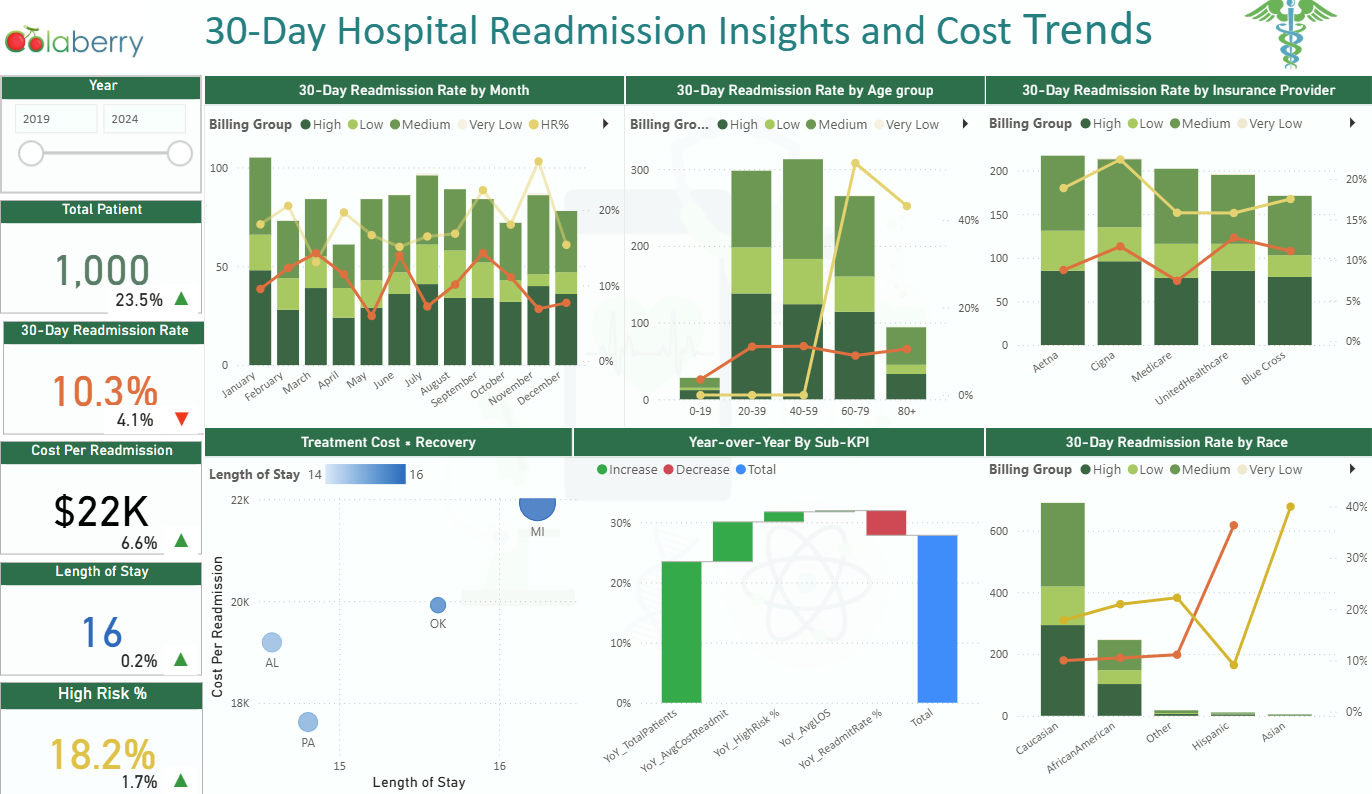

What the dashboard file says about the page in this screenshot:
{"tool":"powerbi","page":{"name":"Original Readmission Insights & Cost Trends","canvas":[1366,800],"ordinal":0},"visuals":[{"type":"textbox","box":[147.8,1,1056,81.6],"z":0},{"type":"image","box":[0,1,147.8,96.6],"z":1000},{"type":"image","box":[1203.9,1,161.6,81.8],"z":2000},{"type":"slicer","title":"Year","fields":{"Values":["DateTable.Year"]},"box":[0,82.7,201.5,117.8],"z":3000},{"type":"card","title":"30-Day Readmission Rate","fields":{"Values":["KPI Measures.ReadmitRate %"]},"box":[3,327,201,113.3],"z":4000},{"type":"card","title":"Total Patient","fields":{"Values":["KPI Measures.TotalPatients"]},"box":[0,207.2,201,113],"z":5000},{"type":"card","title":"Cost Per Readmission","fields":{"Values":["KPI Measures.AvgCostPerReadmit_30"]},"box":[0,447.1,201,113],"z":6000},{"type":"card","title":"Length of Stay","fields":{"Values":["KPI Measures.AvgLOS"]},"box":[0,566.9,201,113],"z":7000},{"type":"lineStackedColumnComboChart","fields":{"Category":["DateTable.MonthName"],"Y2":["KPI Measures.HighRisk %","KPI Measures.30-Day Readmission Rate %"],"Y":["KPI Measures.TotalPatients"],"Series":["30PatientHospitalAdmission_Combined.BillingGroup"]},"box":[203,111.3,418.7,322.2],"z":8000},{"type":"lineStackedColumnComboChart","fields":{"Category":["30PatientHospitalAdmission_Combined.AgeRange"],"Y2":["KPI Measures.HighRisk %","KPI Measures.30-Day Readmission Rate %"],"Y":["KPI Measures.TotalPatients"],"Series":["30PatientHospitalAdmission_Combined.BillingGroup"]},"box":[621.7,111.3,357.6,322.2],"z":9000},{"type":"lineStackedColumnComboChart","fields":{"Category":["30PatientHospitalAdmission_Combined.InsuranceProvider"],"Y":["KPI Measures.TotalPatients"],"Y2":["KPI Measures.HighRisk %","KPI Measures.30-Day Readmission Rate %"],"Series":["30PatientHospitalAdmission_Combined.BillingGroup"]},"box":[979.3,110.3,386.2,322.2],"z":10000},{"type":"scatterChart","title":"Impact of Length of Stay on Billing Amount by Medical Condition","fields":{"X":["KPI Measures.AvgLOS"],"Y":["KPI Measures.AvgCostReadmit"],"Category":["30PatientHospitalAdmission_Combined.State"],"Size":["KPI Measures.TotalPatients"]},"box":[203,462.1,385.2,337.9],"z":11000},{"type":"waterfallChart","title":"Impact of Length of Stay on Billing Amount by Medical Condition","fields":{"Category":["SubKPIs.KPI"],"Y":["SubKPIs.Waterfall_SubKPI_Values"]},"box":[588.2,455.2,391.1,344.8],"z":12000},{"type":"lineStackedColumnComboChart","title":"Impact of Length of Stay on Billing Amount by Medical Condition","fields":{"Category":["30PatientHospitalAdmission_Combined.Race"],"Y2":["KPI Measures.30-Day Readmission Rate %","KPI Measures.HighRisk %"],"Y":["KPI Measures.TotalPatients"],"Series":["30PatientHospitalAdmission_Combined.BillingGroup"]},"box":[979.3,455.2,386.2,344.8],"z":13000},{"type":"textbox","box":[202.9,82.9,418.6,30],"z":14000},{"type":"textbox","box":[621.4,82.9,358.6,30],"z":15000},{"type":"textbox","box":[980,82.9,385.7,30],"z":16000},{"type":"textbox","box":[202.9,432.9,367.1,30],"z":17000},{"type":"textbox","box":[570,432.9,410,30],"z":18000},{"type":"textbox","box":[980,432.9,385.7,30],"z":19000},{"type":"card","title":"High Risk %","fields":{"Values":["KPI Measures.HighRisk %"]},"box":[0,686.7,202,113.3],"z":24000},{"type":"card","fields":{"Values":["KPI Measures.YoY_AvgCostReadmit"]},"box":[107.5,533.8,62,29.6],"z":27000},{"type":"card","fields":{"Values":["KPI Measures.YoY_HighRisk %"]},"box":[107.5,771,62,29],"z":28000},{"type":"card","fields":{"Values":["KPI Measures.YoY_AvgLOS"]},"box":[107.4,651.2,62.1,29.6],"z":29000},{"type":"card","fields":{"Values":["KPI Measures.YoY_TotalPatients_Arrow"]},"box":[163.3,290.4,34.1,30],"z":30000},{"type":"card","fields":{"Values":["KPI Measures.YoY_TotalPatients"]},"box":[107.5,291.4,62,28.9],"z":31000},{"type":"card","fields":{"Values":["KPI Measures.YoY_ReadmitRate_Percent"]},"box":[103.3,411.2,62,28.9],"z":32000},{"type":"card","fields":{"Values":["KPI Measures.YoY_ReadmitRate_Arrow"]},"box":[164.3,411.2,33.1,28.9],"z":33000},{"type":"card","fields":{"Values":["KPI Measures.YoY_AvgCostReadmit_Arrow"]},"box":[163.3,531.1,34.1,28.9],"z":34000},{"type":"card","fields":{"Values":["KPI Measures.YoY_AvgLOS_Arrow"]},"box":[163.3,649.9,33.1,30],"z":35000},{"type":"card","fields":{"Values":["KPI Measures.YoY_HighRiskArrow"]},"box":[163.3,770.8,33.1,27.9],"z":36000}]}

Visuals, with their boxes in screenshot pixels (x1, y1, x2, y2), scaled from the page's 1366x800 canvas onto the 1372x794 screenshot:
textbox: bbox=(148, 1, 1209, 82)
image: bbox=(0, 1, 148, 97)
image: bbox=(1209, 1, 1371, 82)
"Year" slicer: bbox=(0, 82, 202, 199)
"30-Day Readmission Rate" card: bbox=(3, 325, 205, 437)
"Total Patient" card: bbox=(0, 206, 202, 318)
"Cost Per Readmission" card: bbox=(0, 444, 202, 556)
"Length of Stay" card: bbox=(0, 563, 202, 675)
lineStackedColumnComboChart - DateTable.MonthName x KPI Measures.HighRisk %: bbox=(204, 110, 624, 430)
lineStackedColumnComboChart - 30PatientHospitalAdmission_Combined.AgeRange x KPI Measures.HighRisk %: bbox=(624, 110, 984, 430)
lineStackedColumnComboChart - 30PatientHospitalAdmission_Combined.InsuranceProvider x KPI Measures.TotalPatients: bbox=(984, 109, 1371, 429)
"Impact of Length of Stay on Billing Amount by Medical Condition" scatterChart: bbox=(204, 459, 591, 793)
"Impact of Length of Stay on Billing Amount by Medical Condition" waterfallChart: bbox=(591, 452, 984, 793)
"Impact of Length of Stay on Billing Amount by Medical Condition" lineStackedColumnComboChart: bbox=(984, 452, 1371, 793)
textbox: bbox=(204, 82, 624, 112)
textbox: bbox=(624, 82, 984, 112)
textbox: bbox=(984, 82, 1371, 112)
textbox: bbox=(204, 430, 573, 459)
textbox: bbox=(573, 430, 984, 459)
textbox: bbox=(984, 430, 1371, 459)
"High Risk %" card: bbox=(0, 682, 203, 793)
card - KPI Measures.YoY_AvgCostReadmit: bbox=(108, 530, 170, 559)
card - KPI Measures.YoY_HighRisk %: bbox=(108, 765, 170, 793)
card - KPI Measures.YoY_AvgLOS: bbox=(108, 646, 170, 676)
card - KPI Measures.YoY_TotalPatients_Arrow: bbox=(164, 288, 198, 318)
card - KPI Measures.YoY_TotalPatients: bbox=(108, 289, 170, 318)
card - KPI Measures.YoY_ReadmitRate_Percent: bbox=(104, 408, 166, 437)
card - KPI Measures.YoY_ReadmitRate_Arrow: bbox=(165, 408, 198, 437)
card - KPI Measures.YoY_AvgCostReadmit_Arrow: bbox=(164, 527, 198, 556)
card - KPI Measures.YoY_AvgLOS_Arrow: bbox=(164, 645, 197, 675)
card - KPI Measures.YoY_HighRiskArrow: bbox=(164, 765, 197, 793)
